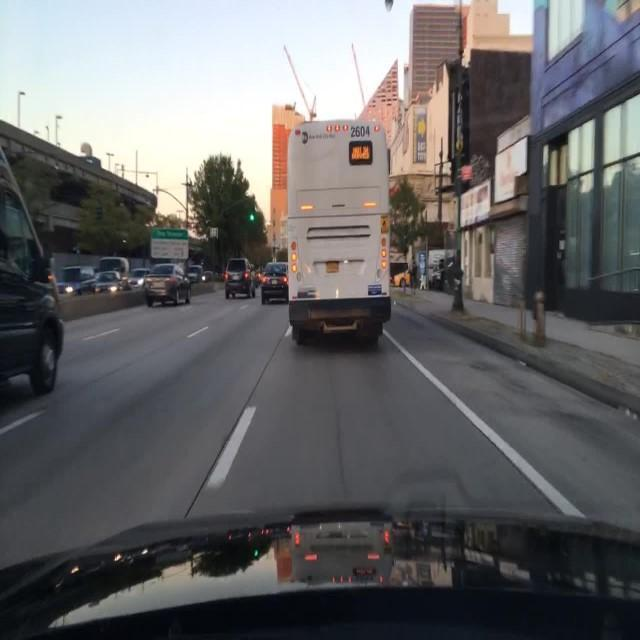normal: (284, 169, 393, 352), (0, 263, 65, 398), (143, 264, 192, 306), (223, 257, 260, 300), (258, 261, 290, 303), (54, 265, 97, 295), (90, 272, 122, 295), (183, 264, 201, 283)
